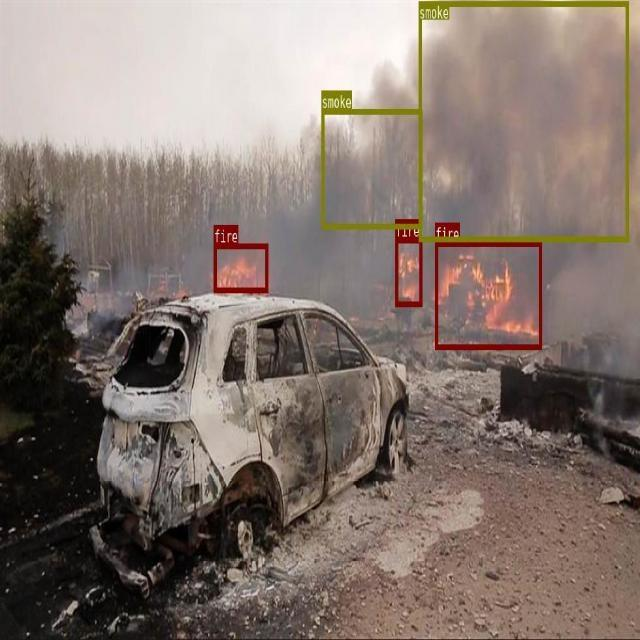fire: (435, 241, 542, 348), (213, 242, 268, 292), (395, 237, 422, 306)
smoke: (418, 1, 628, 240), (321, 108, 421, 228)
